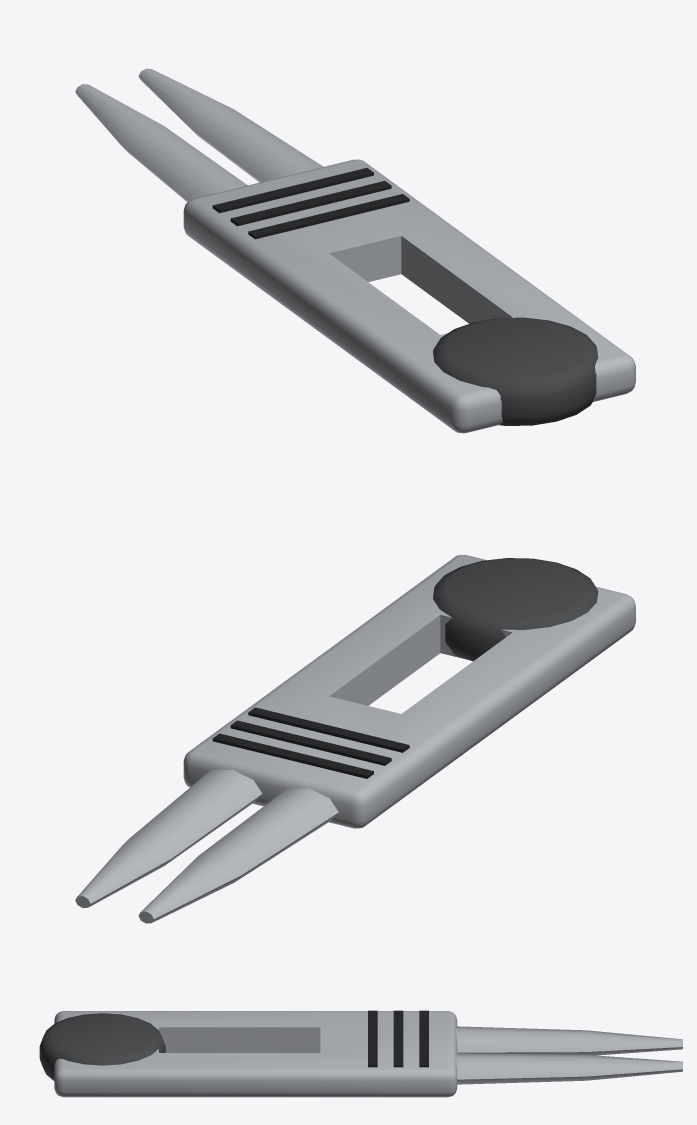
File: pf_divot_slim.glb
3 views of the same model, one above another, from view 1: azimuth 30°, elevation 25°; view 2: azimuth 150°, elevation 25°; view 3: azimuth 270°, elevation 25° (orthographic). The views are drawn at different scales.
Parts seen in each view (by area): view 1: pf_divot_slim_body; view 2: pf_divot_slim_body; view 3: pf_divot_slim_body.
Part boxes in pixels (bbox=[...]): pf_divot_slim_body: bbox=[75, 68, 635, 433]; pf_divot_slim_body: bbox=[75, 555, 635, 923]; pf_divot_slim_body: bbox=[39, 1010, 682, 1097].
Size of the model in its own units: 0.022 by 0.007 by 0.083.
Materials: 4 (2 with a texture image).
